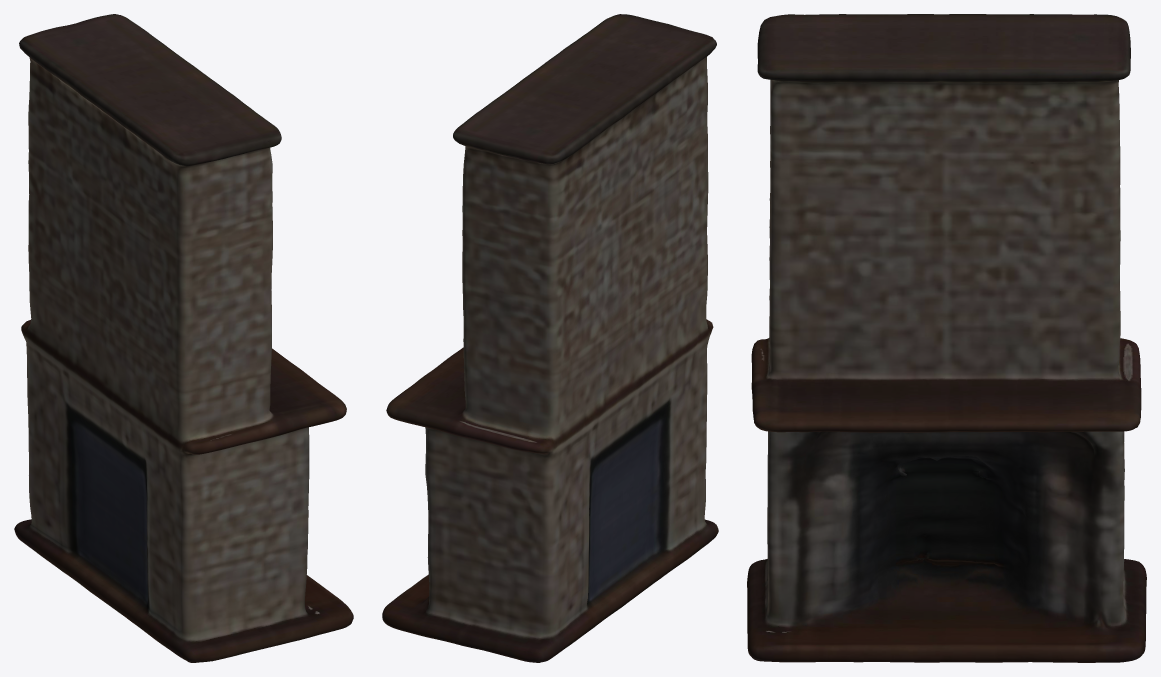
File: 146e99f971ff_rustic_fireplace__3.fbx
3 renders of one model, left to right at view 1: azimuth 30°, elevation 25°; view 2: azimuth 150°, elevation 25°; view 3: azimuth 270°, elevation 25°, orthographic. The views are drawn at different scales.
Visible parts, largest first — view 1: mesh; view 2: mesh; view 3: mesh.
Boxes of the visible parts, x1=… form: mesh: x1=14, y1=14, x2=353, y2=662; mesh: x1=382, y1=14, x2=718, y2=662; mesh: x1=747, y1=14, x2=1146, y2=662.
Size of the model in its own units: 36.18 by 99.91 by 64.83.
